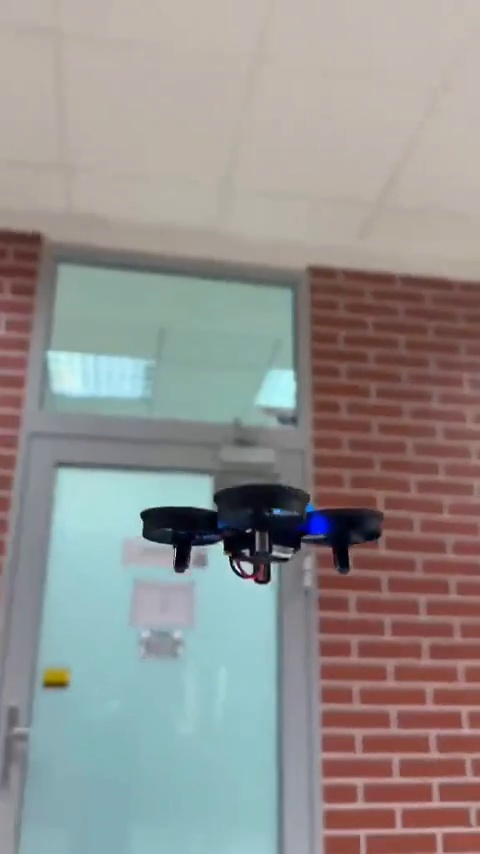drone: (144, 485, 394, 589)
